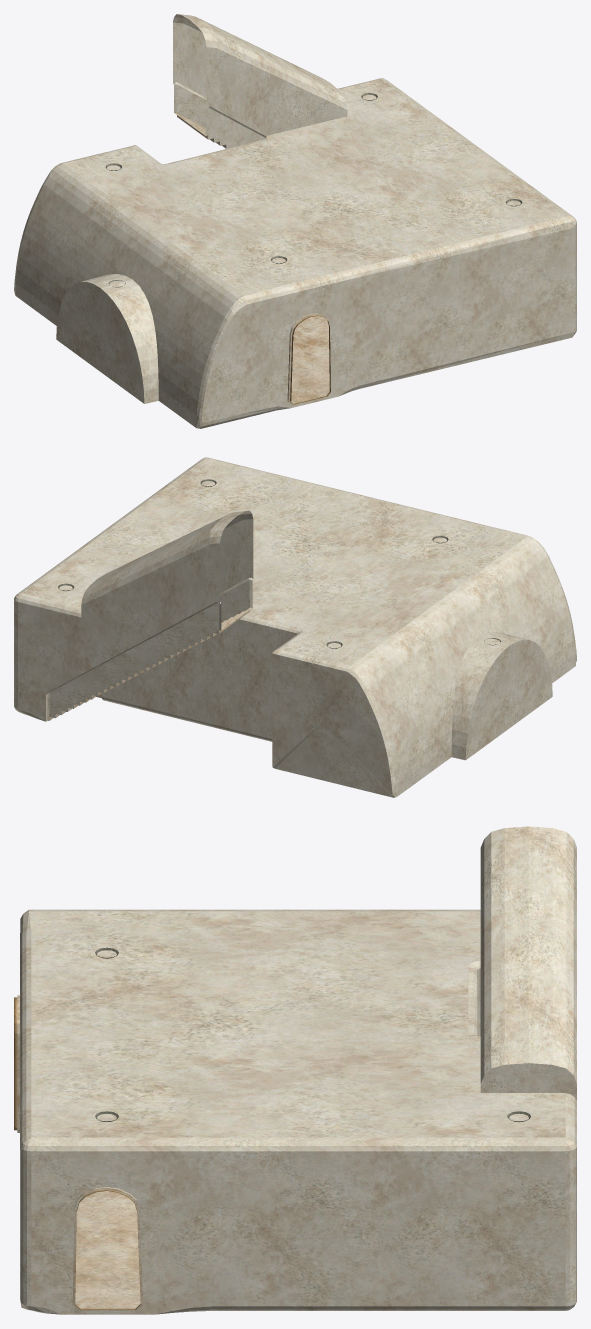
File: ply_tato_house_lg_s01_fp1_r9_lounge_mesh_r9.fbx
3 renders of one model, top to bottom at view 1: azimuth 30°, elevation 25°; view 2: azimuth 150°, elevation 25°; view 3: azimuth 270°, elevation 25°, orthographic. The views are drawn at different scales.
Parts seen in each view (by area): view 1: mesh_node; view 2: mesh_node; view 3: mesh_node.
Part boxes in pixels (bbox=[...]): mesh_node: bbox=[14, 14, 576, 428]; mesh_node: bbox=[14, 457, 576, 797]; mesh_node: bbox=[14, 826, 576, 1314].
Bounding box in the file's own units: 13.96 × 8 × 11.98.
